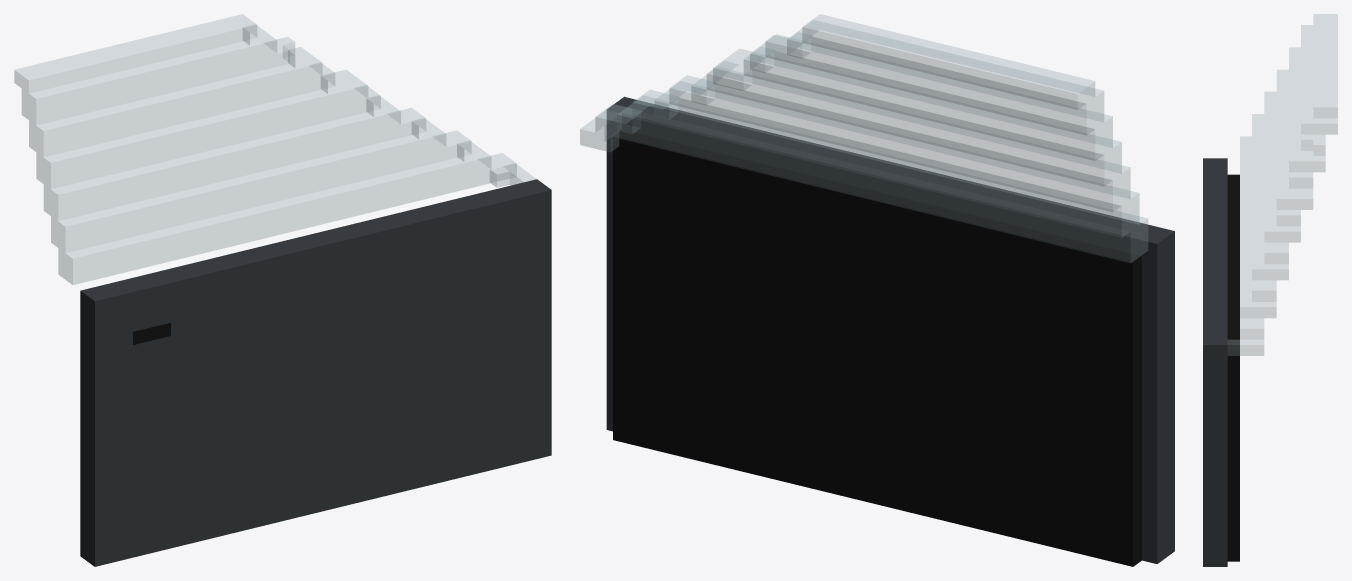
File: coupe_front_door.glb
The picture shows the model from 3 angles, left to right: view 1: azimuth 30°, elevation 25°; view 2: azimuth 150°, elevation 25°; view 3: azimuth 270°, elevation 25°; orthographic projection. The views are drawn at different scales.
Visible parts, largest first — view 1: body:compound; view 2: body:compound; view 3: body:compound.
Boxes of the visible parts, box(x1,y1,x2,y2) form: body:compound: box(14, 14, 551, 566); body:compound: box(580, 14, 1174, 566); body:compound: box(1203, 14, 1337, 566).
Size of the model in its own units: 1.12 by 1.03 by 0.3438.
